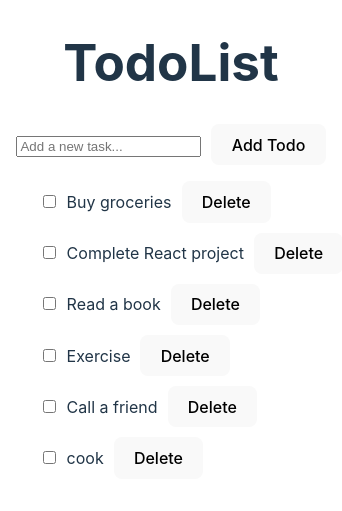
Test case: Add new todo
// Simulate user typing a new task
Type "Learn Testing" into the field with placeholder "Add a new task..." at (109, 146), box x1=16 y1=136 x2=202 y2=157
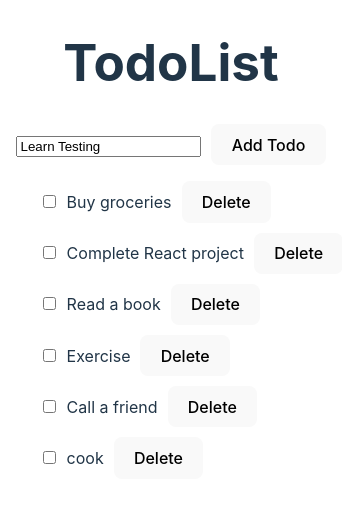
Click the button "Add Todo" at (269, 145), box x1=212 y1=124 x2=326 y2=166
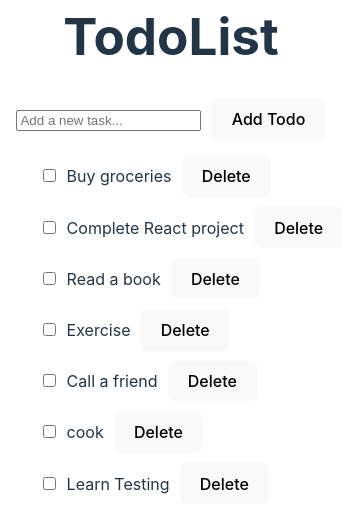
Expected: the text "Learn Testing" is shown, x1=67 y1=474 x2=170 y2=494
